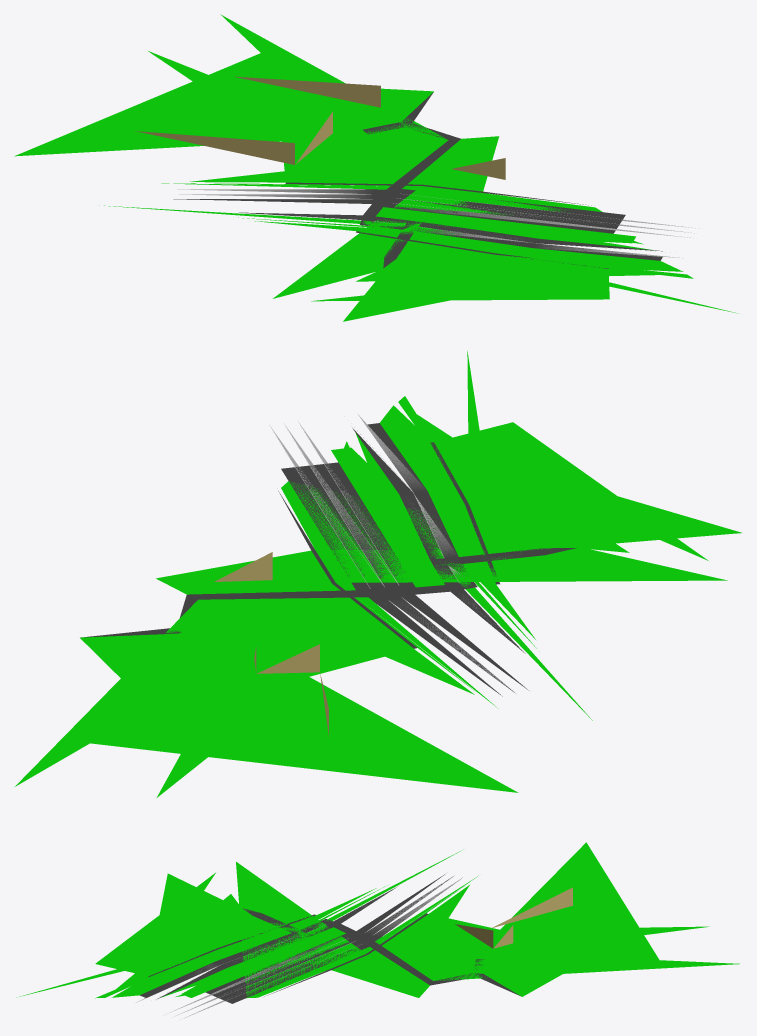
The picture shows the model from 3 angles, top to bottom: view 1: azimuth 30°, elevation 25°; view 2: azimuth 150°, elevation 25°; view 3: azimuth 270°, elevation 25°; orthographic projection. The views are drawn at different scales.
Bounding box in the file's own units: 157 × 7.5 × 270.
